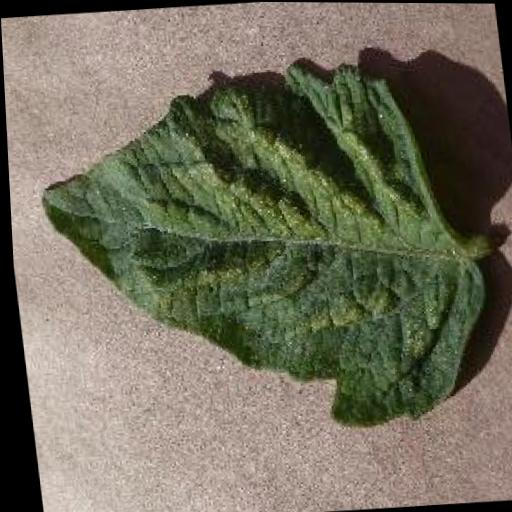Spider Mites: (26, 50, 496, 446)
